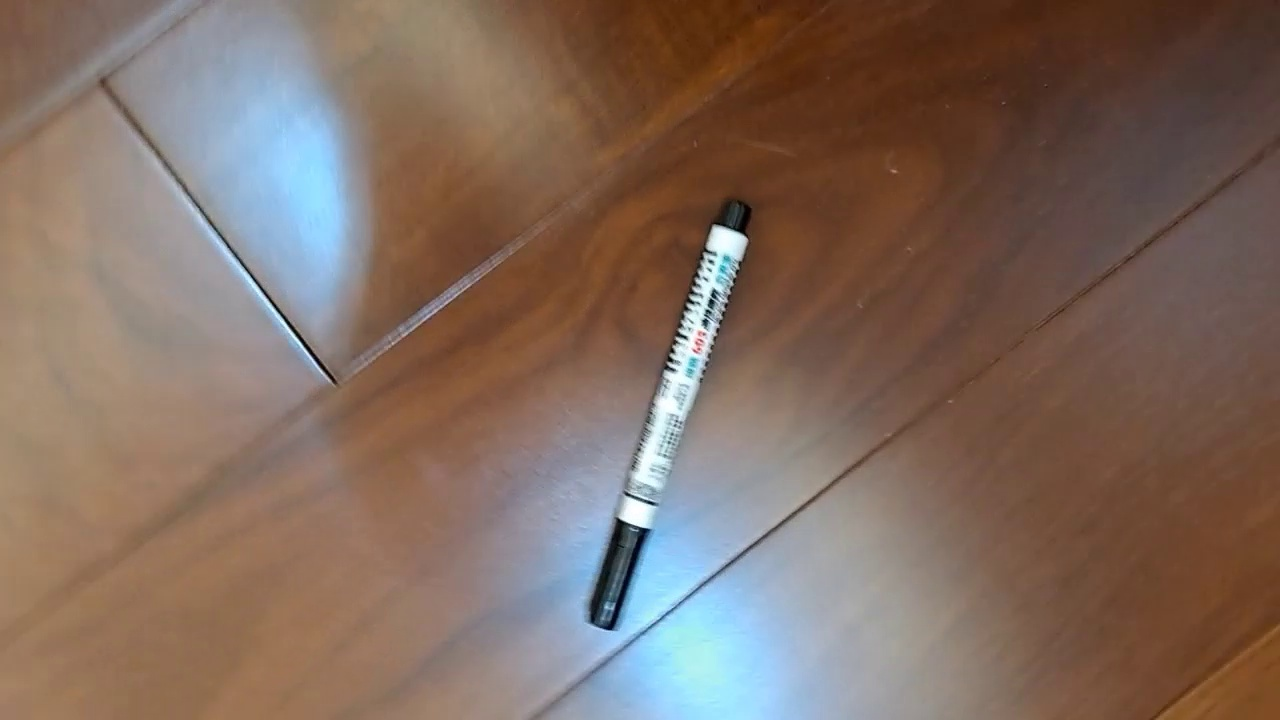pen: (585, 195, 754, 632)
